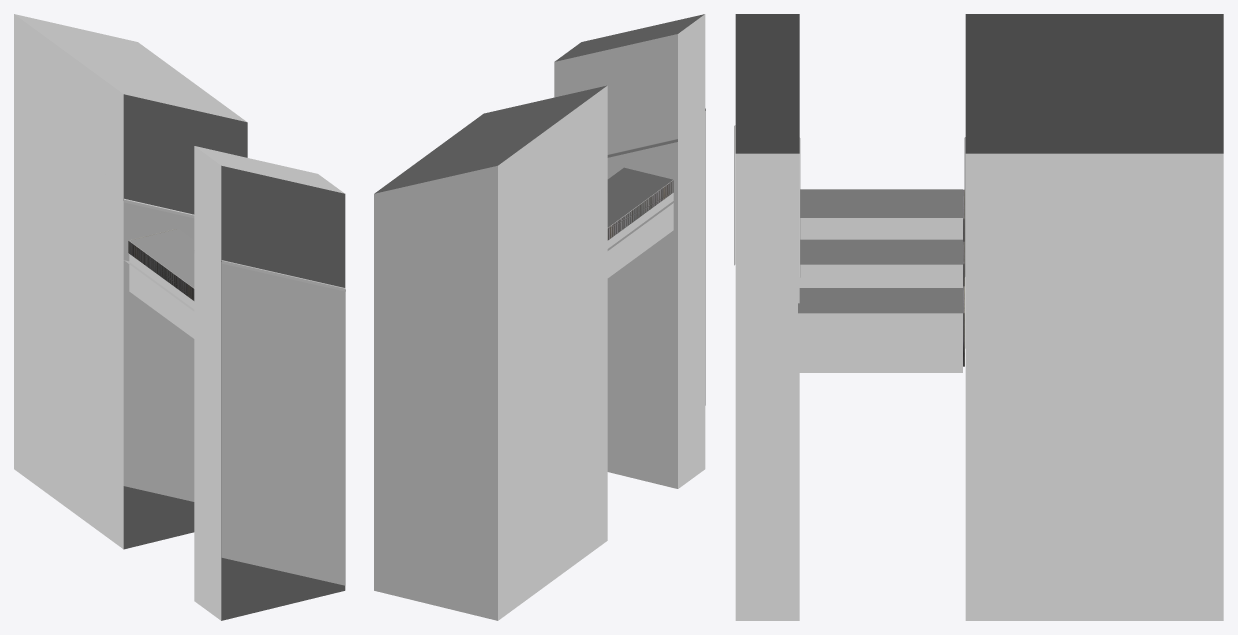
The model's file is SM_Escalator_Strt_01a.fbx.
3 renders of one model, left to right at view 1: azimuth 30°, elevation 25°; view 2: azimuth 150°, elevation 25°; view 3: azimuth 270°, elevation 25°, orthographic. The views are drawn at different scales.
Parts seen in each view (by area): view 1: SM_Escalator_Strt_01a_ConvexHulls, SM_Escalator_Strt_01a; view 2: SM_Escalator_Strt_01a_ConvexHulls, SM_Escalator_Strt_01a; view 3: SM_Escalator_Strt_01a_ConvexHulls, SM_Escalator_Strt_01a.
Boxes of the visible parts, x1=… form: SM_Escalator_Strt_01a_ConvexHulls: x1=14, y1=14, x2=345, y2=620; SM_Escalator_Strt_01a: x1=123, y1=198, x2=345, y2=585; SM_Escalator_Strt_01a_ConvexHulls: x1=374, y1=14, x2=705, y2=620; SM_Escalator_Strt_01a: x1=607, y1=108, x2=705, y2=405; SM_Escalator_Strt_01a_ConvexHulls: x1=735, y1=14, x2=1223, y2=620; SM_Escalator_Strt_01a: x1=734, y1=125, x2=965, y2=366.
Size of the model in its own units: 114 by 291 by 351.
